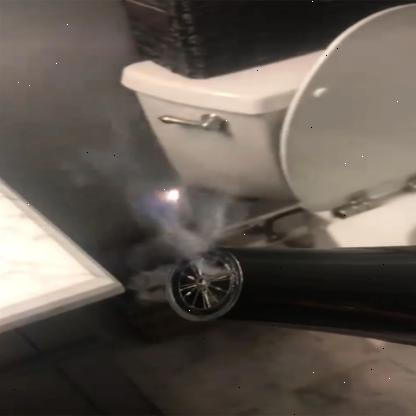smoke: (68, 59, 254, 284)
